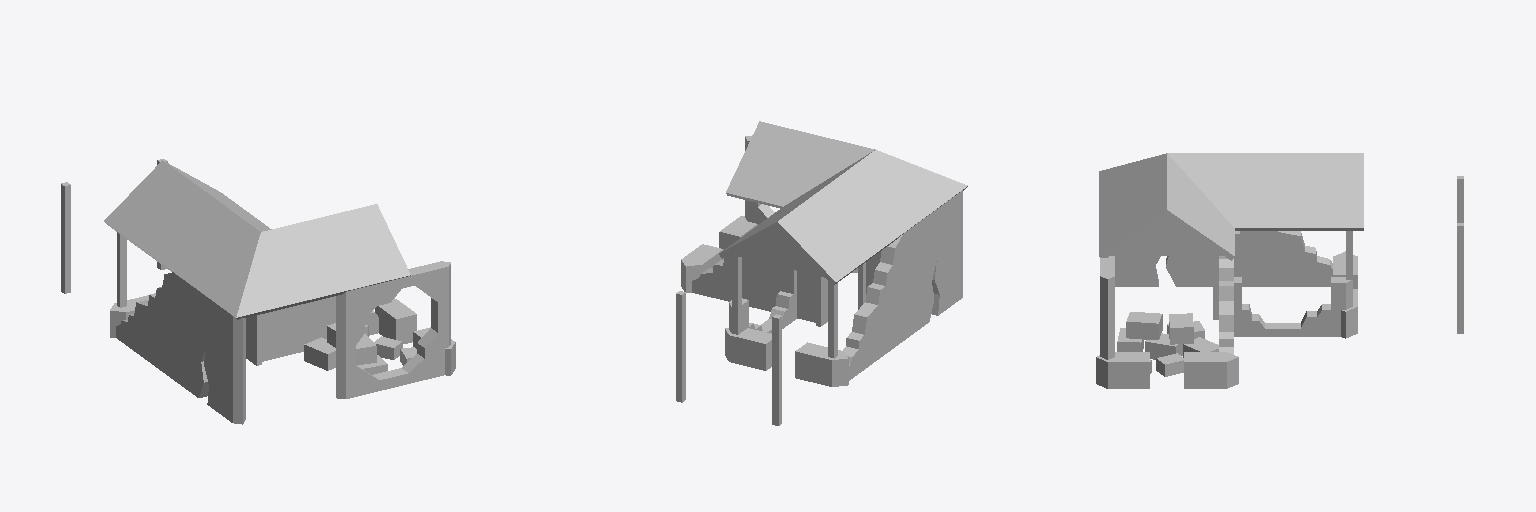
The model's file is Casa 6 Semi Rota.obj.
3 renders of one model, left to right at view 1: azimuth 30°, elevation 25°; view 2: azimuth 150°, elevation 25°; view 3: azimuth 270°, elevation 25°, orthographic.
Size of the model in its own units: 2.21 by 1.44 by 3.1.